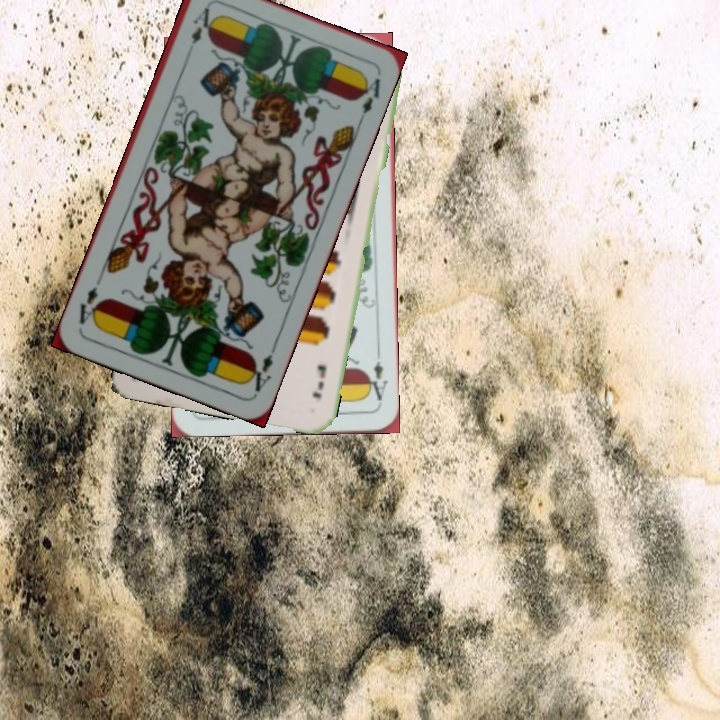E7: (308, 361, 329, 402)
EA: (243, 339, 280, 395), (363, 348, 390, 404), (187, 3, 212, 47)
